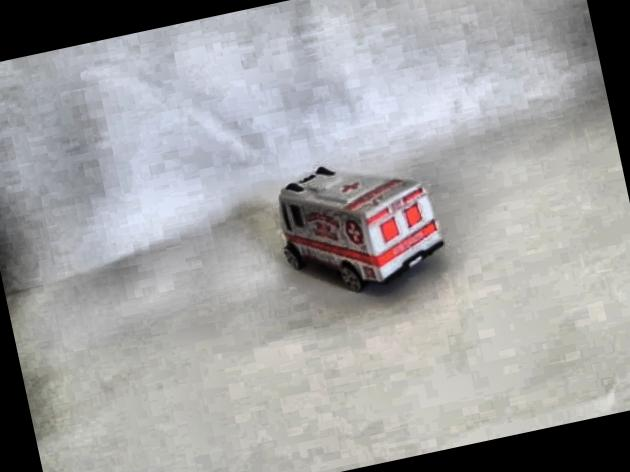ambulance: (266, 144, 450, 306)
